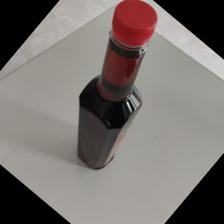Namngu: (74, 1, 159, 171)
